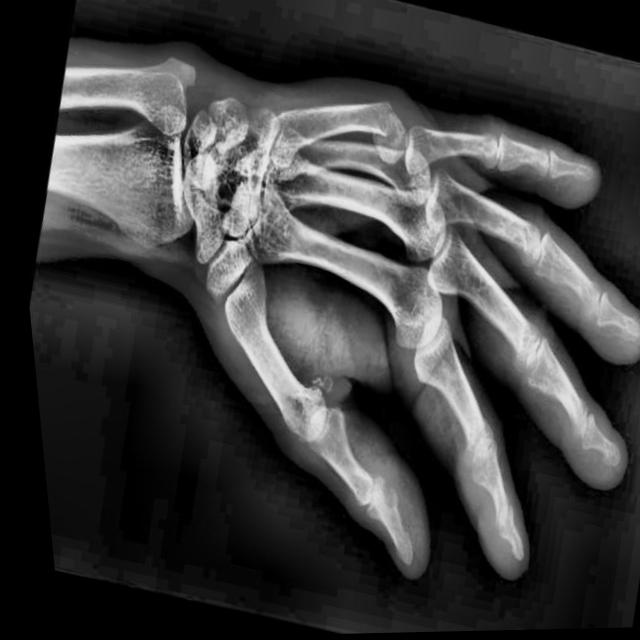fracture: (367, 101, 396, 145)
